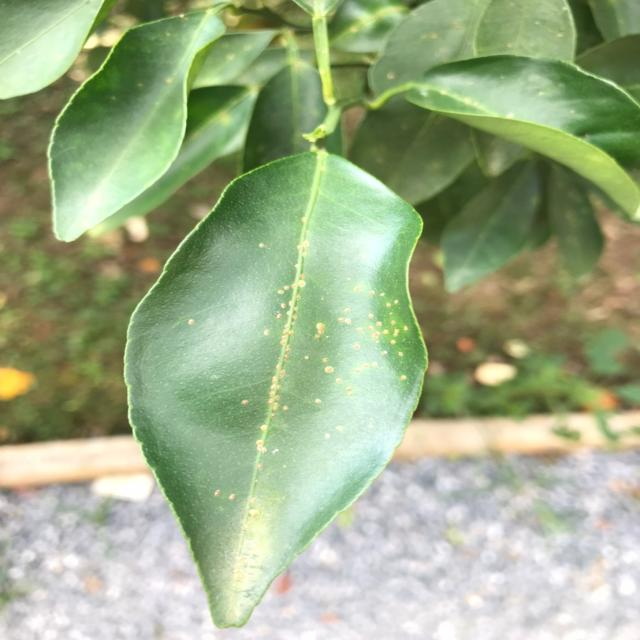canker: (123, 212, 452, 568)
